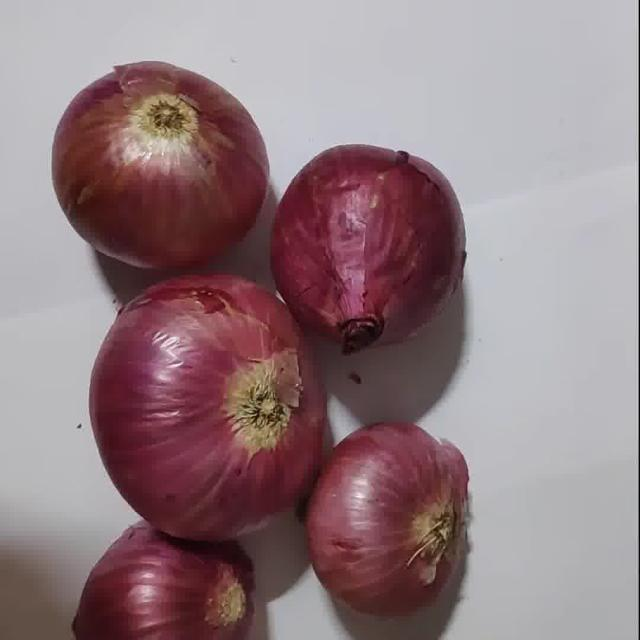Onion: (90, 276, 325, 540), (52, 61, 270, 270), (271, 145, 465, 355), (308, 424, 469, 619), (72, 523, 252, 639)
